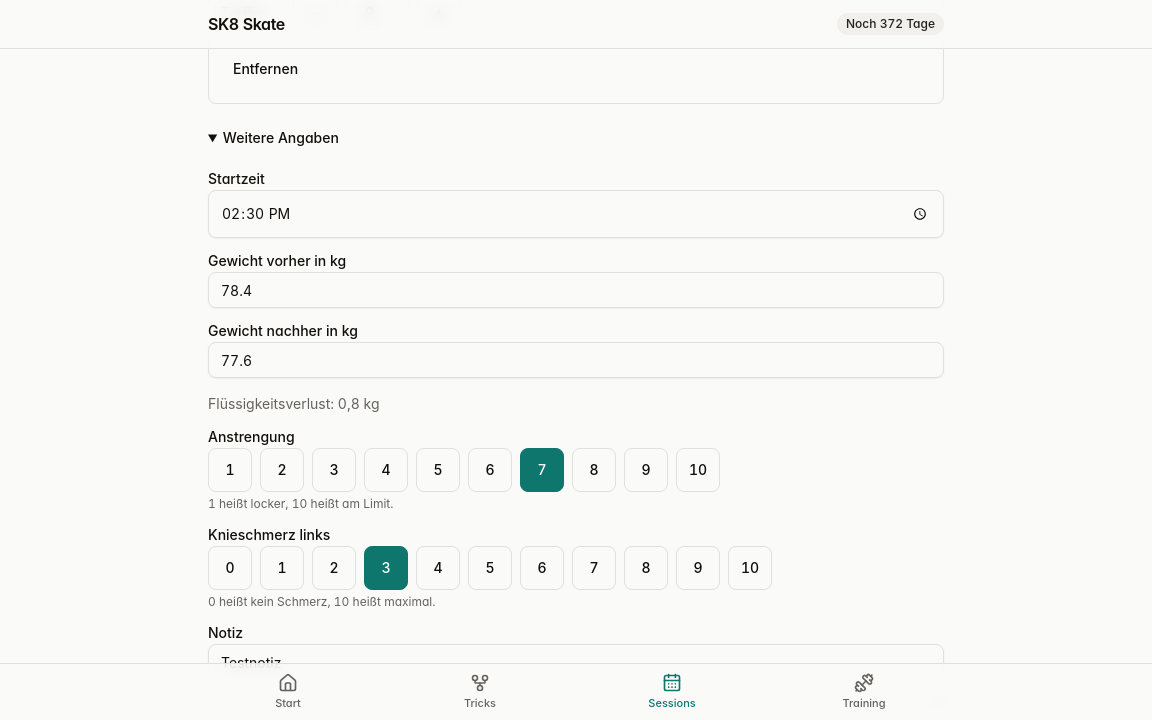
Test: SessionEditScreen › Kriterium 19: clearing 'Gewicht nachher' sends weightAfterKg: null, and the detail view shows a dash for fluid loss
(page scrolled)
Clear the number field labelled "Gewicht nachher in kg" at (576, 360), box [208,342,944,378]
(page scrolled)
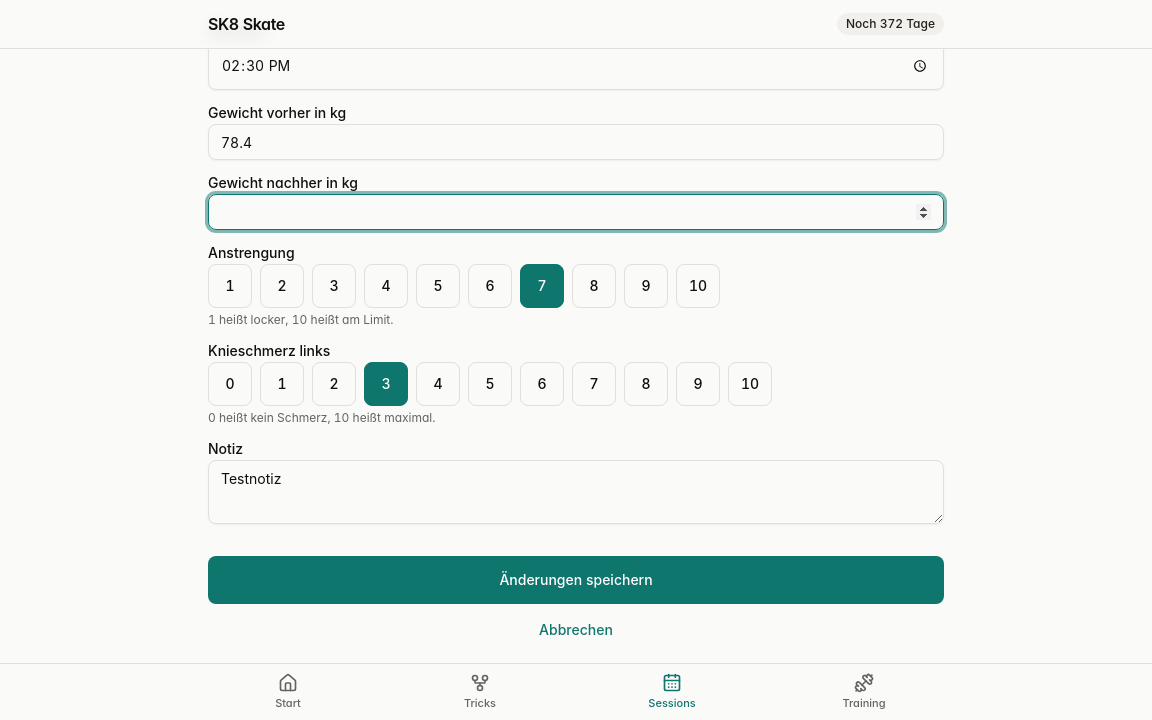
Click the button "Änderungen speichern" at (576, 580), box [208,556,944,604]
(page scrolled)
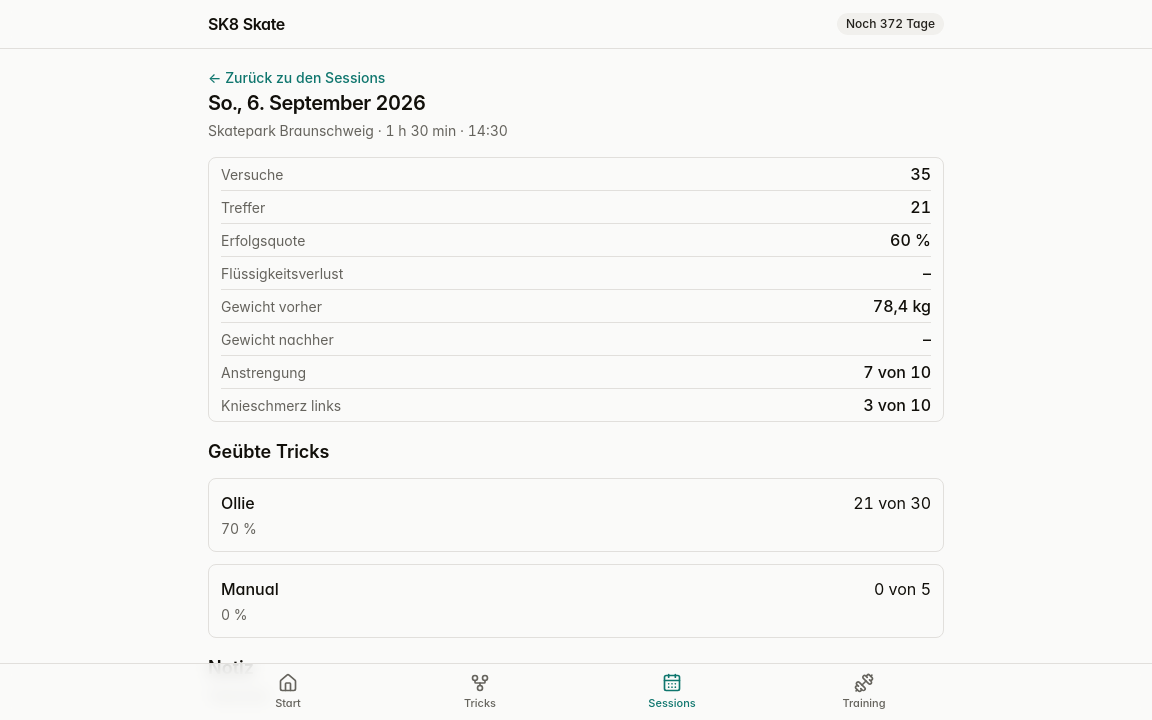
Expected: the text "Flüssigkeitsverlust" is shown, [221,264,343,284]
